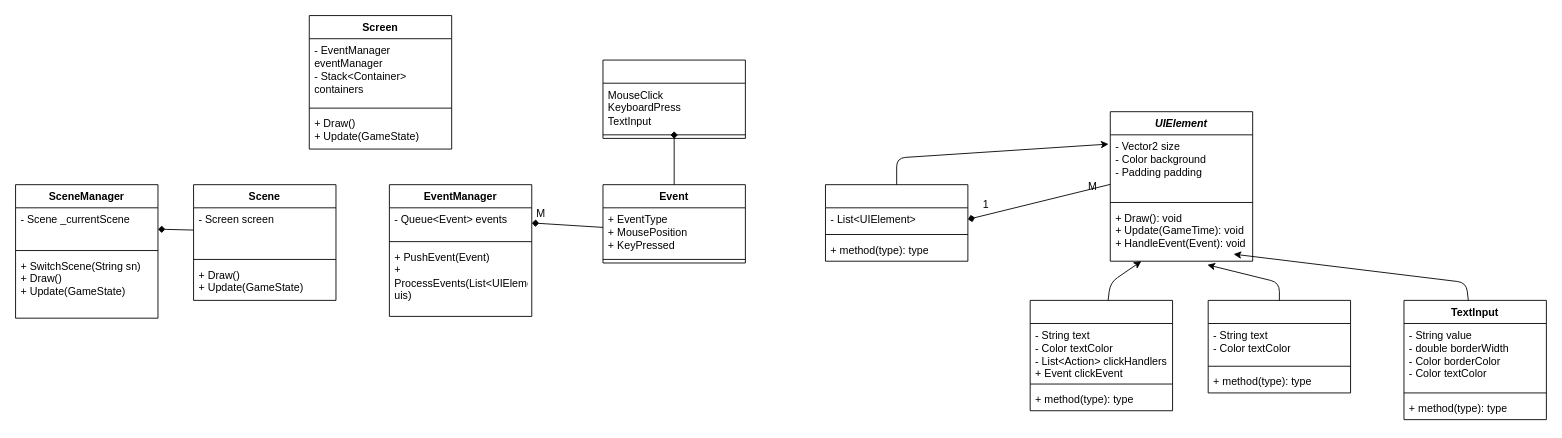
Image size: 1562x438. Some labels were removed from this diagram. Here are the shapes that lost their labels. From the top down, the box of each, then its label:
(602, 59, 745, 138): EventType <<enum>>
(825, 184, 968, 261): Container
(1029, 299, 1173, 411): Button
(1207, 299, 1351, 393): Label
